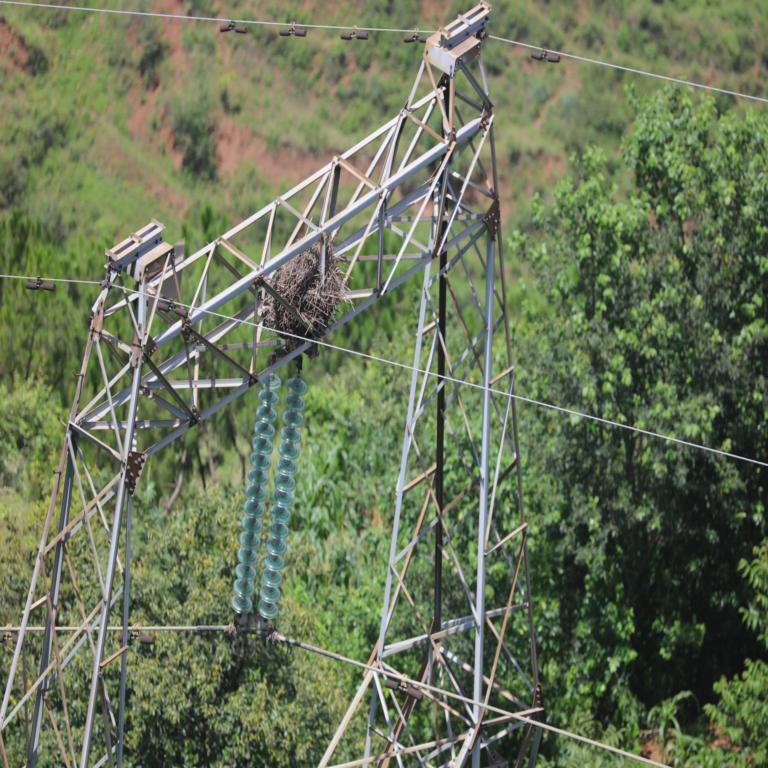nest: (265, 243, 341, 351)
